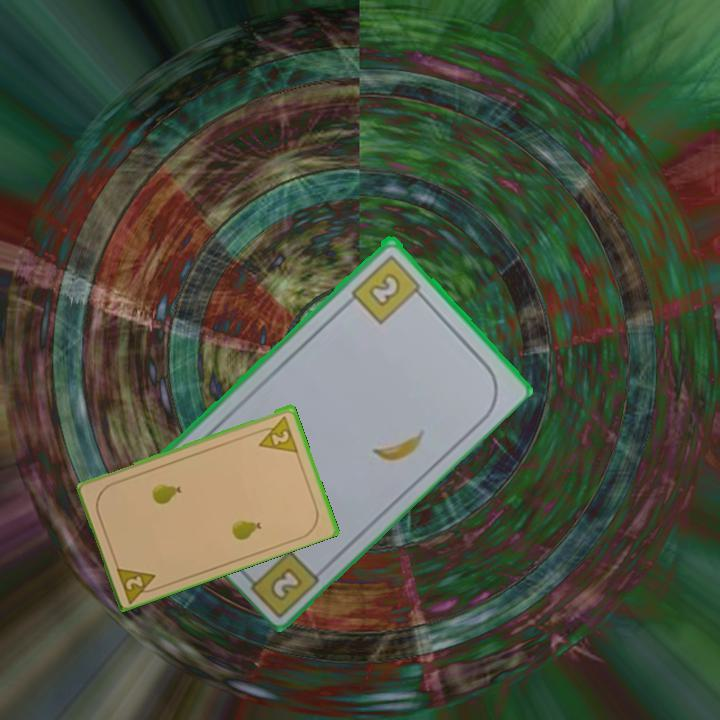2b: (348, 251, 428, 326), (266, 563, 306, 603)
2p: (112, 561, 164, 604), (252, 411, 301, 455)
